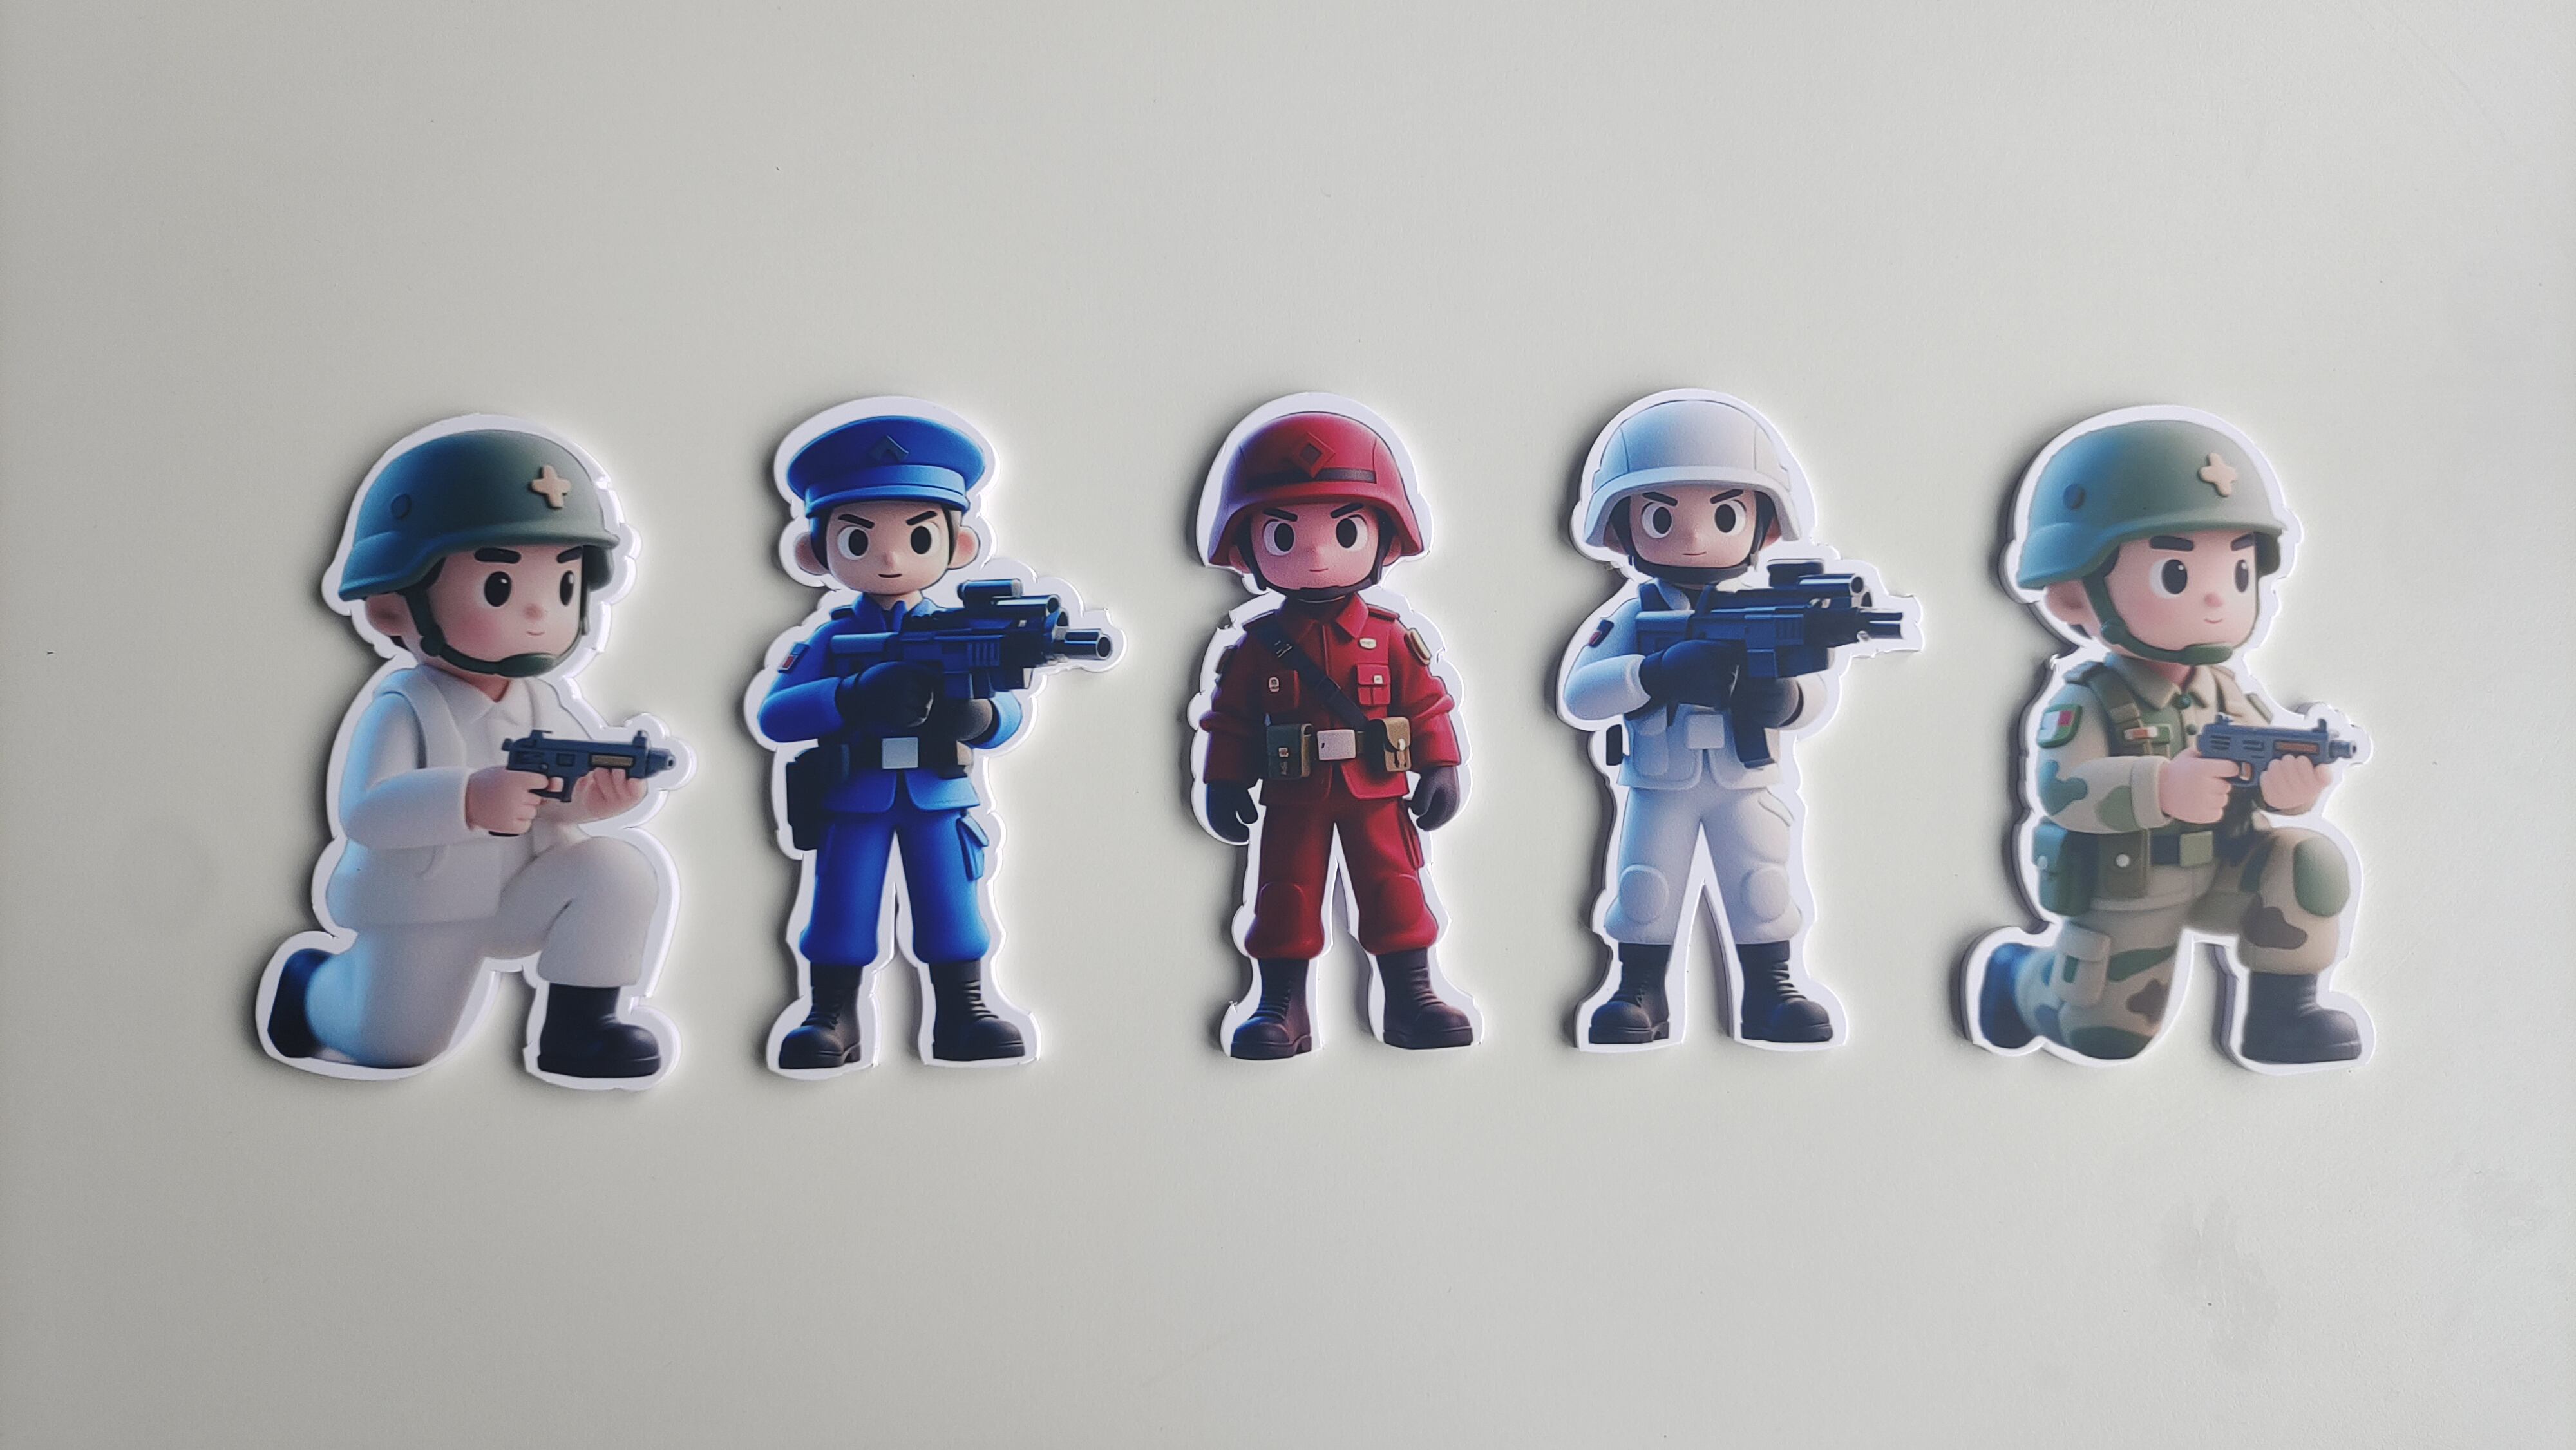enemy1: (1175, 608, 1511, 1068)
enemy2: (725, 608, 1063, 1080)
friend: (1955, 644, 2385, 1107)
hostage: (239, 683, 692, 1110), (1553, 582, 1863, 1054)
